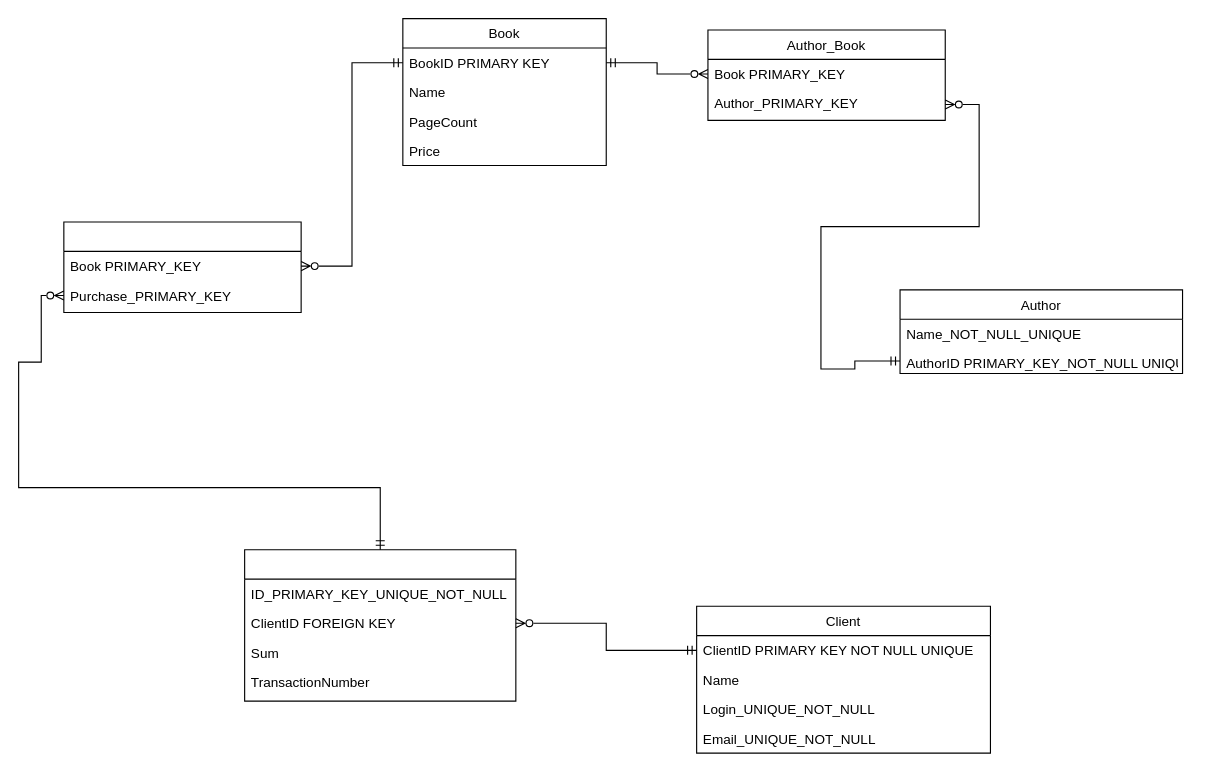
Image size: 1212x772. Some labels were removed from this diagram. The box of each missing label's shape, as (x1, y1, x2, y2) in pixels:
Purchase: (244, 549, 516, 701)
Purchase_Book: (63, 221, 301, 312)
